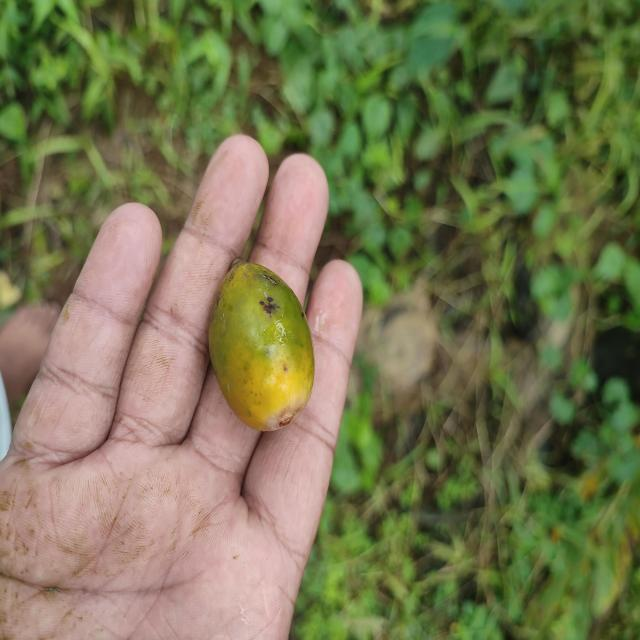good: (207, 262, 316, 433)
